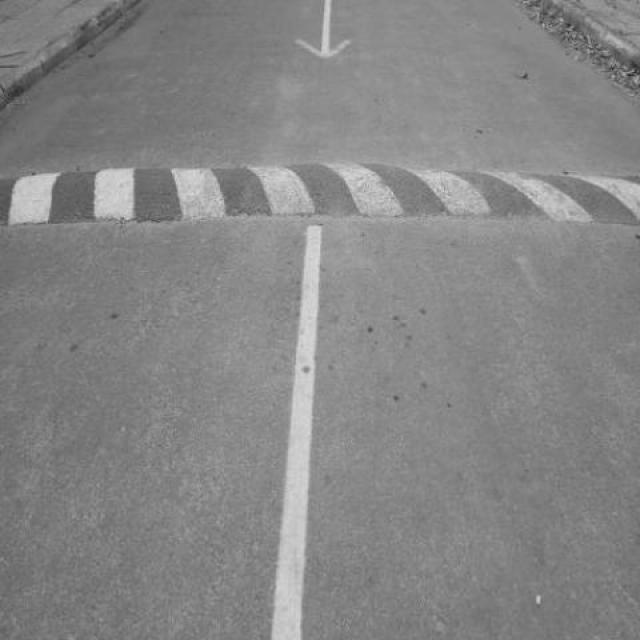Speed Bump: (1, 166, 639, 230)
